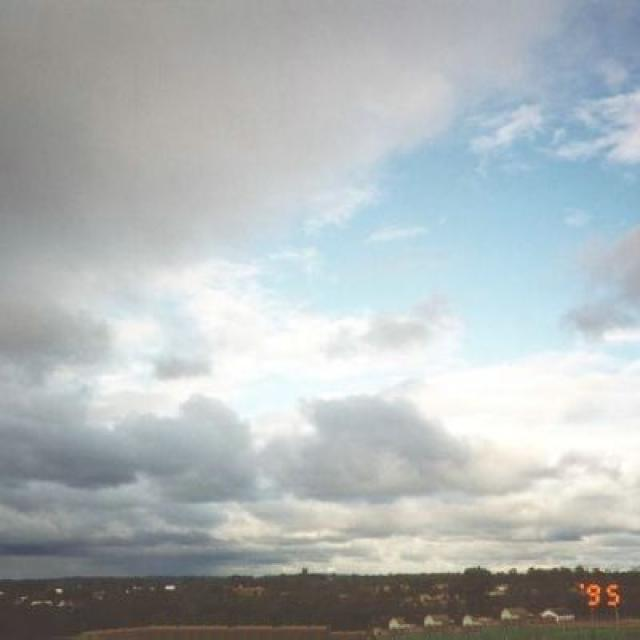Sc: (1, 21, 640, 527)
